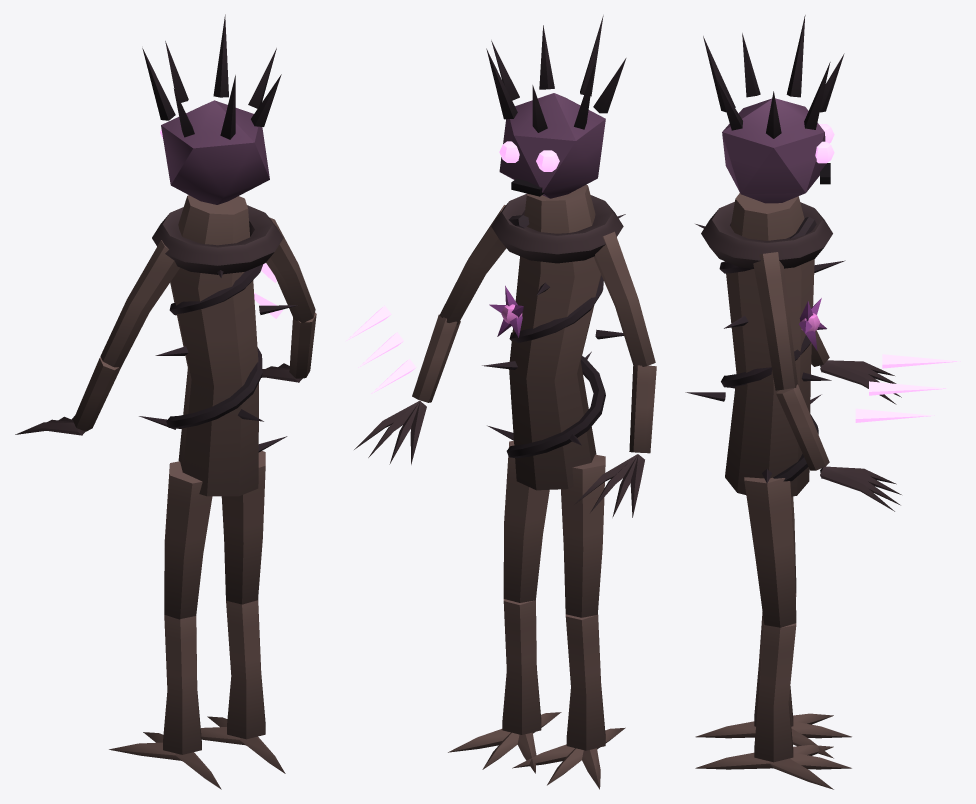
The model's file is mob_thorn_weaver.fbx.
3 renders of one model, left to right at view 1: azimuth 30°, elevation 25°; view 2: azimuth 150°, elevation 25°; view 3: azimuth 270°, elevation 25°, orthographic.
Parts seen in each view (by area): view 1: Body, Head, KneeL, KneeR, LegL, LegR, ArmL, ForearmL, ArmR, ForearmR; view 2: Body, Head, KneeL, KneeR, LegL, LegR, ForearmL, ForearmR, ArmL, ArmR, ForearmR_Glow_Blight, Head_Glow_Blight; view 3: Body, Head, KneeR, LegR, ArmR, ForearmR, KneeL, ForearmR_Glow_Blight, ForearmL, Head_Glow_Blight.
Boxes of the visible parts, box(x1,y1,x2,y2) form: Body: box(139, 195, 297, 496); Head: box(142, 14, 281, 204); KneeL: box(109, 615, 221, 789); KneeR: box(200, 598, 285, 773); LegL: box(164, 461, 212, 619); LegR: box(221, 451, 265, 604); ArmL: box(100, 240, 179, 367); ForearmL: box(15, 357, 120, 435); ArmR: box(266, 217, 315, 322); ForearmR: box(261, 312, 316, 382); Body: box(482, 184, 625, 490); Head: box(486, 15, 626, 198); KneeL: box(512, 614, 625, 789); KneeR: box(448, 599, 561, 773); LegL: box(561, 454, 605, 617); LegR: box(503, 441, 549, 602); ForearmL: box(574, 365, 656, 517); ForearmR: box(354, 314, 460, 464); ArmL: box(594, 231, 655, 368); ArmR: box(439, 205, 506, 324); ForearmR_Glow_Blight: box(345, 305, 416, 394); Head_Glow_Blight: box(499, 141, 559, 171); Body: box(685, 193, 845, 496); Head: box(703, 15, 844, 203); KneeR: box(695, 623, 851, 789); LegR: box(744, 477, 796, 627); ArmR: box(753, 252, 797, 390); ForearmR: box(776, 384, 901, 511); KneeL: box(695, 593, 851, 758); ForearmR_Glow_Blight: box(855, 354, 960, 422); ForearmL: box(811, 330, 901, 404); Head_Glow_Blight: box(815, 124, 834, 163).
Size of the model in its own units: 243 by 594 by 209.
Materials: 3 (1 with a texture image).
